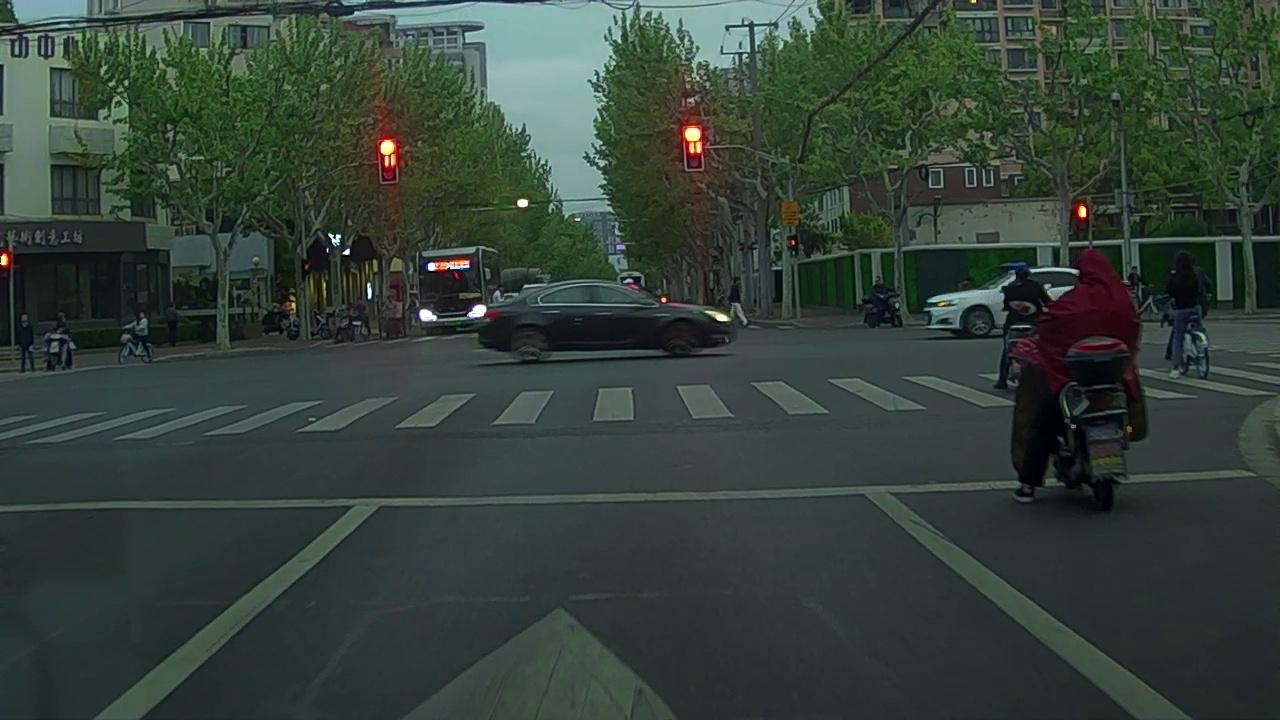traffic_light: (682, 126, 705, 170), (380, 136, 401, 184)
